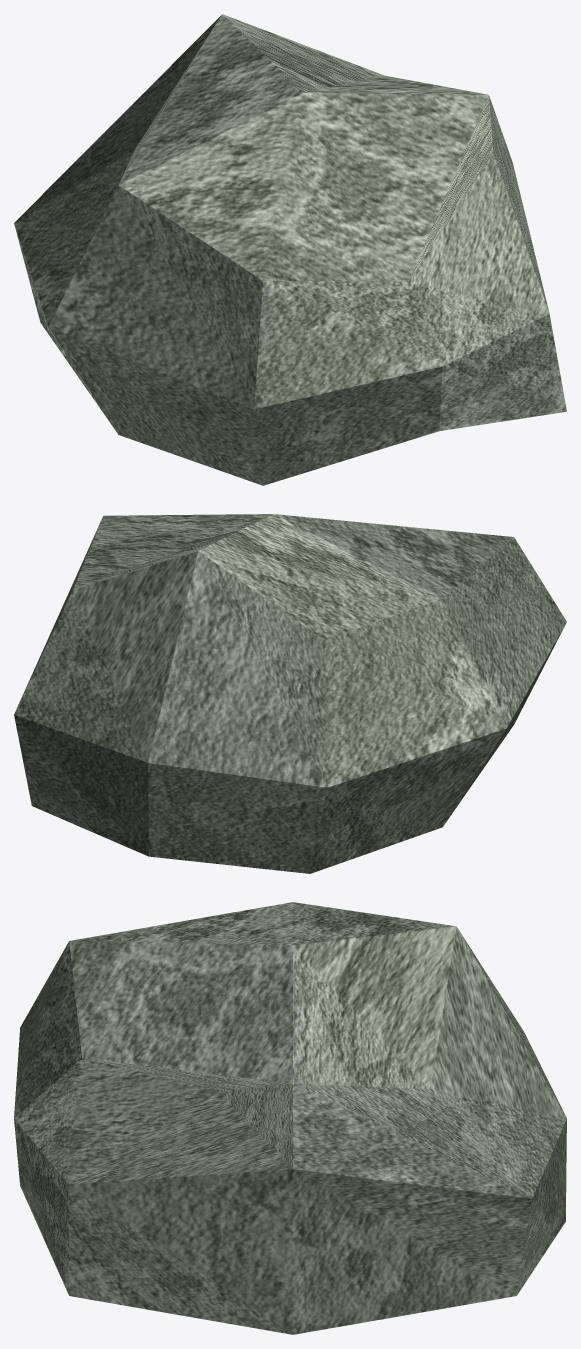
Rendered from rock.fbx.
3 renders of one model, top to bottom at view 1: azimuth 30°, elevation 25°; view 2: azimuth 150°, elevation 25°; view 3: azimuth 270°, elevation 25°, orthographic. The views are drawn at different scales.
Visible parts, largest first — view 1: Rock; view 2: Rock; view 3: Rock.
Part boxes in pixels (<box>): Rock: <box>14,14,566,485</box>; Rock: <box>14,514,566,873</box>; Rock: <box>14,902,566,1334</box>.
Bounding box in the file's own units: 55.01 × 35.8 × 56.48.
